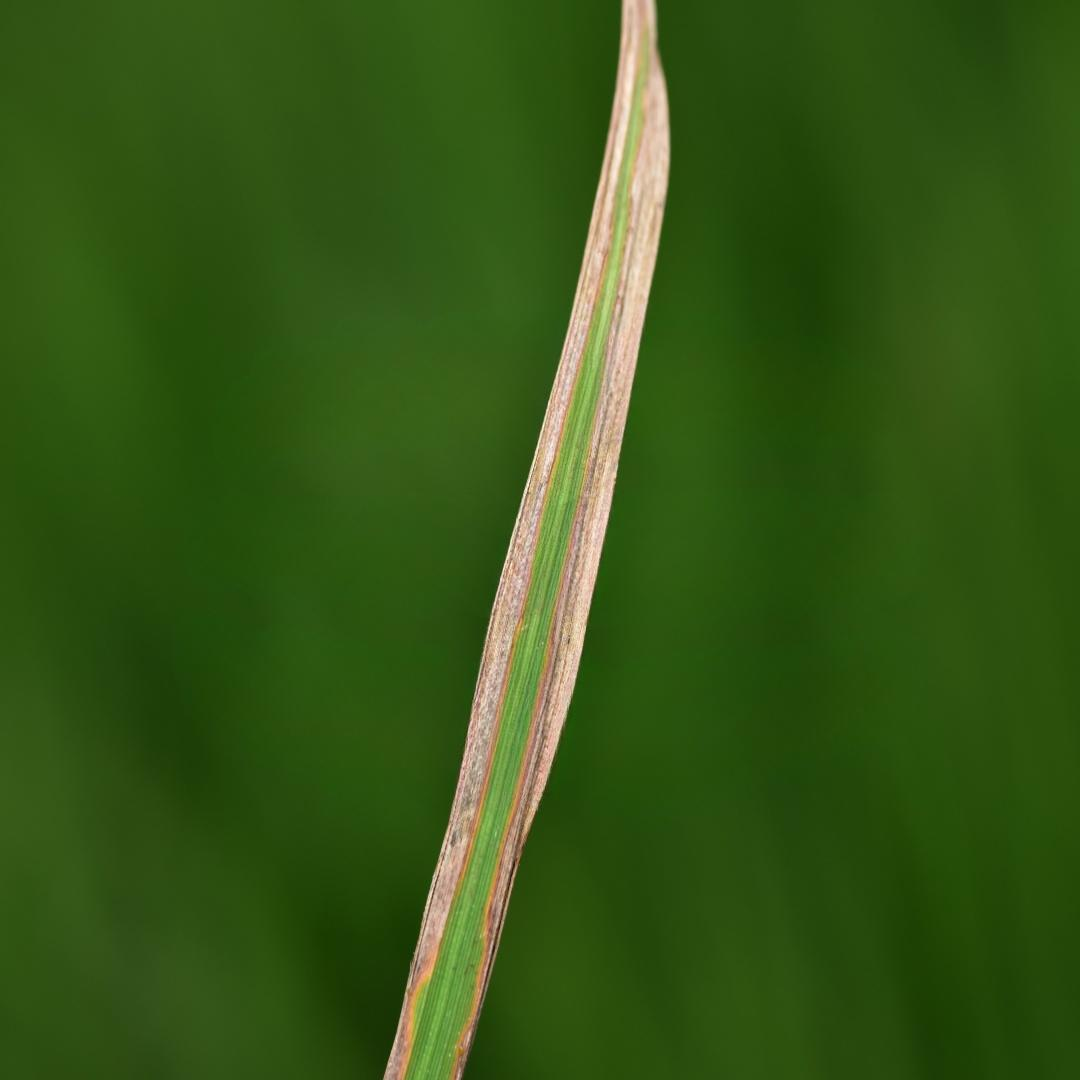BLB: (385, 1, 668, 1079)
LEAF: (384, 0, 669, 1079)
